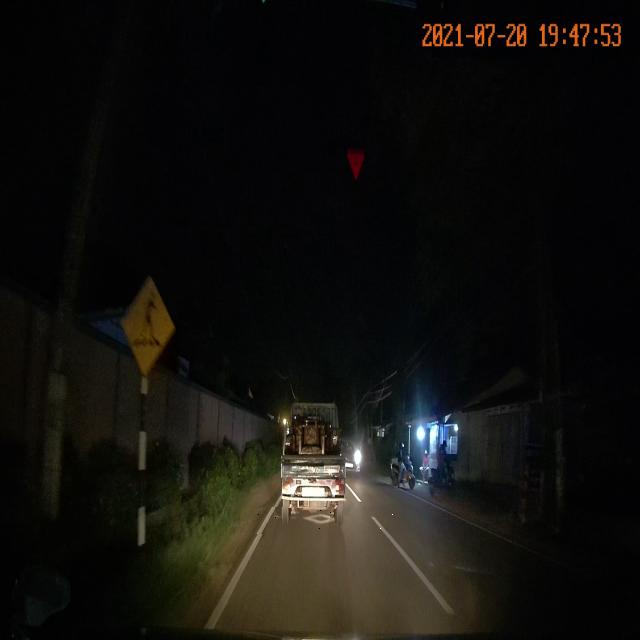diamond: (250, 508, 393, 534)
